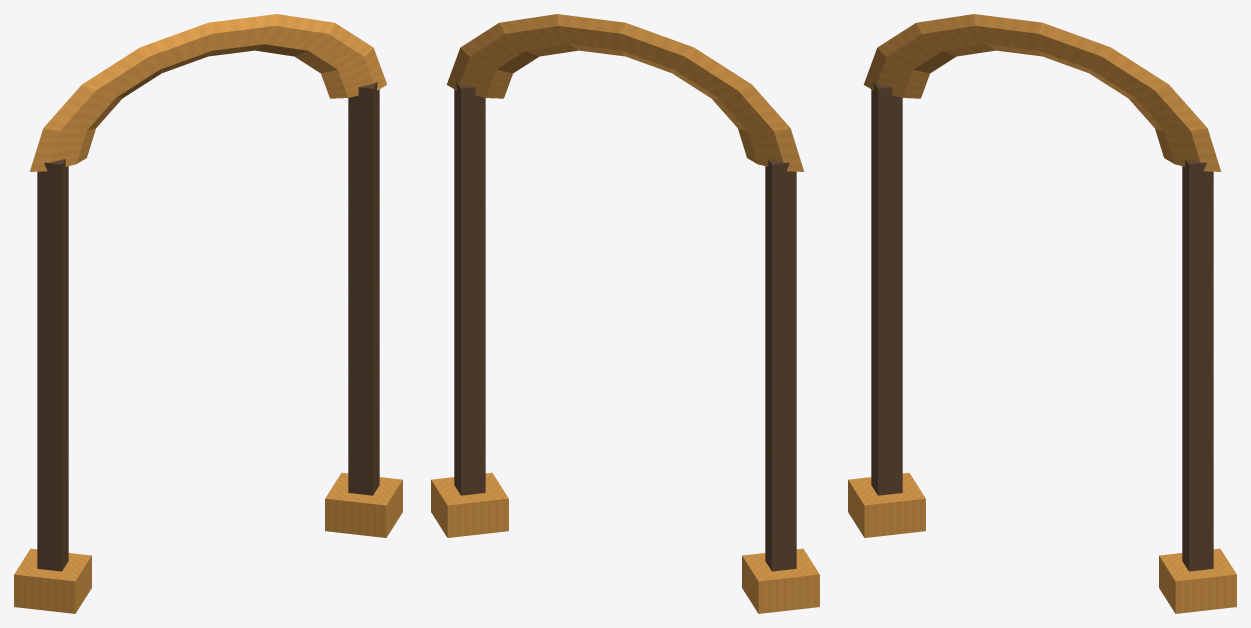
File: atlas100-s011-a09.lod2.glb
3 views of the same model, side by side, from view 1: azimuth 30°, elevation 25°; view 2: azimuth 150°, elevation 25°; view 3: azimuth 330°, elevation 25° (orthographic).
Visible parts, largest first — view 1: atlas100-s011-a09:part-004, atlas100-s011-a09:part-000, atlas100-s011-a09:part-002, atlas100-s011-a09:part-003, atlas100-s011-a09:part-001; view 2: atlas100-s011-a09:part-004, atlas100-s011-a09:part-000, atlas100-s011-a09:part-002, atlas100-s011-a09:part-003, atlas100-s011-a09:part-001; view 3: atlas100-s011-a09:part-004, atlas100-s011-a09:part-002, atlas100-s011-a09:part-000, atlas100-s011-a09:part-001, atlas100-s011-a09:part-003.
Boxes of the visible parts, x1=… form: atlas100-s011-a09:part-004: x1=30, y1=14, x2=387, y2=171; atlas100-s011-a09:part-000: x1=37, y1=159, x2=68, y2=571; atlas100-s011-a09:part-002: x1=348, y1=81, x2=379, y2=495; atlas100-s011-a09:part-003: x1=325, y1=472, x2=402, y2=537; atlas100-s011-a09:part-001: x1=14, y1=548, x2=91, y2=613; atlas100-s011-a09:part-004: x1=446, y1=14, x2=803, y2=171; atlas100-s011-a09:part-000: x1=765, y1=159, x2=796, y2=571; atlas100-s011-a09:part-002: x1=454, y1=81, x2=485, y2=495; atlas100-s011-a09:part-003: x1=431, y1=472, x2=508, y2=537; atlas100-s011-a09:part-001: x1=742, y1=548, x2=819, y2=613; atlas100-s011-a09:part-004: x1=863, y1=14, x2=1220, y2=171; atlas100-s011-a09:part-002: x1=1182, y1=159, x2=1213, y2=571; atlas100-s011-a09:part-000: x1=871, y1=81, x2=902, y2=495; atlas100-s011-a09:part-001: x1=848, y1=472, x2=925, y2=537; atlas100-s011-a09:part-003: x1=1159, y1=548, x2=1236, y2=613.
Size of the model in its own units: 2.5 by 3.3 by 0.5.
Materials: 2 (2 with a texture image).
